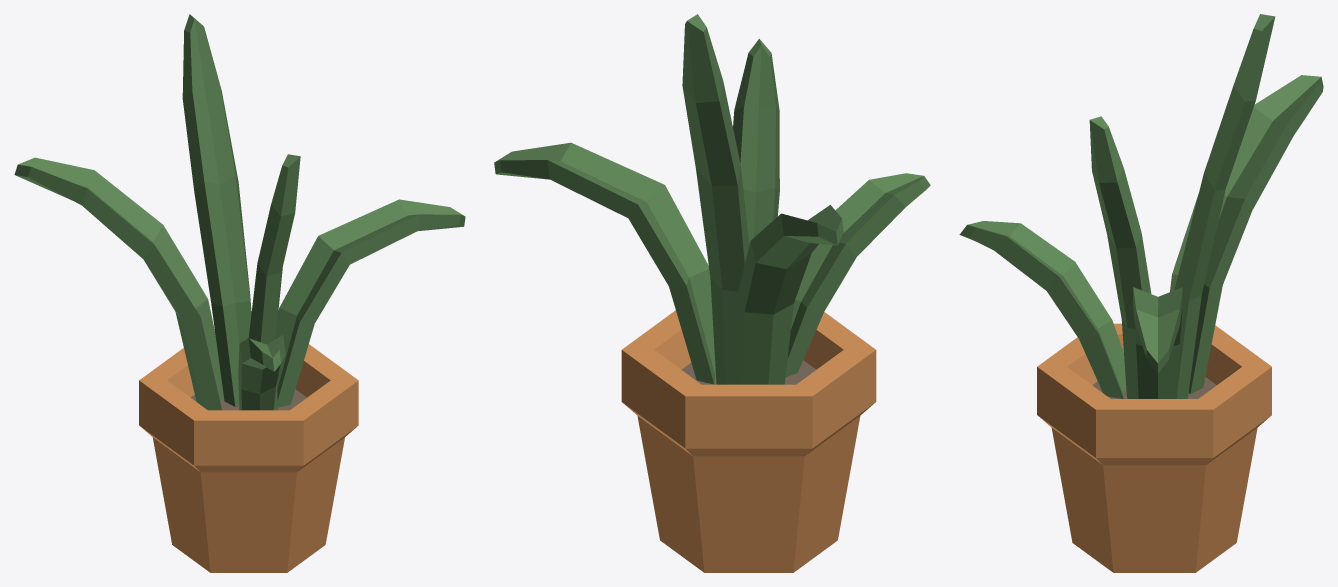
File: SM_Prop_PotPlant_05.fbx
The picture shows the model from 3 angles, left to right: view 1: azimuth 30°, elevation 25°; view 2: azimuth 150°, elevation 25°; view 3: azimuth 270°, elevation 25°; orthographic projection. The views are drawn at different scales.
Visible parts, largest first — view 1: SM_Prop_PotPlant_05; view 2: SM_Prop_PotPlant_05; view 3: SM_Prop_PotPlant_05.
Part boxes in pixels (x1,y1,x2,y2): SM_Prop_PotPlant_05: [14, 14, 465, 572]; SM_Prop_PotPlant_05: [494, 14, 930, 572]; SM_Prop_PotPlant_05: [959, 14, 1323, 572].
Size of the model in its own units: 43.23 by 54.32 by 34.07.
